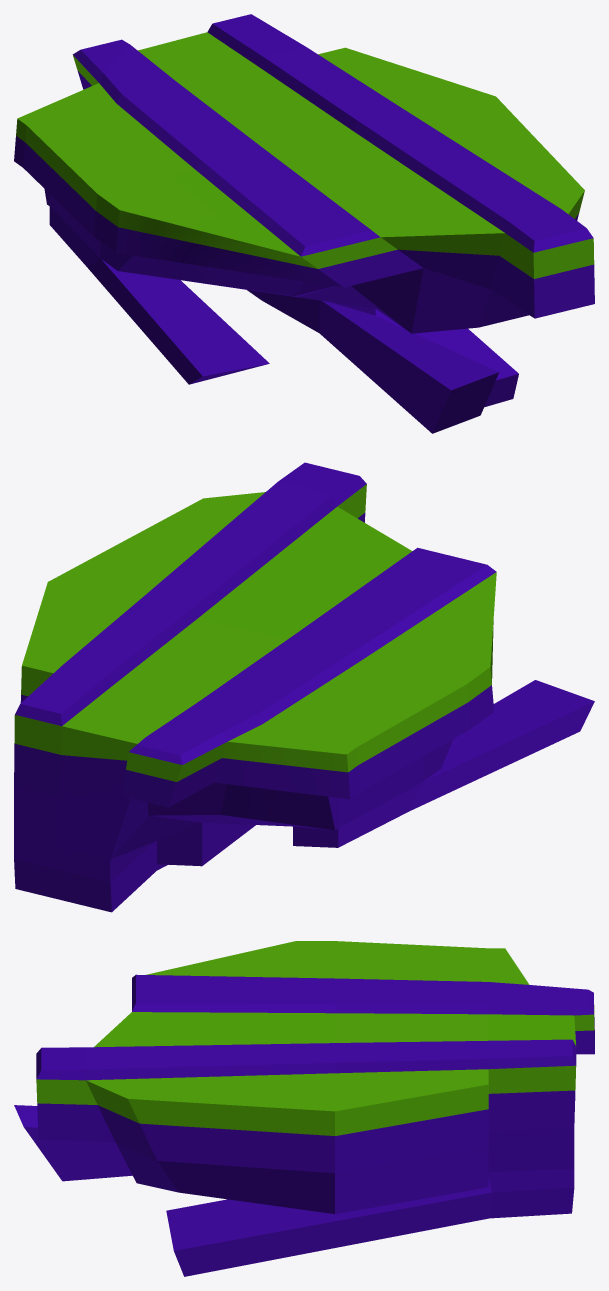
Rendered from Platform_2_rework bien.fbx.
The picture shows the model from 3 angles, top to bottom: view 1: azimuth 30°, elevation 25°; view 2: azimuth 150°, elevation 25°; view 3: azimuth 270°, elevation 25°; orthographic projection. The views are drawn at different scales.
Visible parts, largest first — view 1: Platform_rework_2_notwalk, Platform_rework_2_walk; view 2: Platform_rework_2_notwalk, Platform_rework_2_walk; view 3: Platform_rework_2_notwalk, Platform_rework_2_walk.
Part boxes in pixels (bbox=[...]): Platform_rework_2_notwalk: bbox=[14, 14, 594, 433]; Platform_rework_2_walk: bbox=[16, 32, 594, 278]; Platform_rework_2_notwalk: bbox=[14, 462, 594, 912]; Platform_rework_2_walk: bbox=[14, 484, 496, 781]; Platform_rework_2_notwalk: bbox=[14, 974, 594, 1276]; Platform_rework_2_walk: bbox=[36, 941, 594, 1135].
Bounding box in the file's own units: 338 × 184 × 474.
